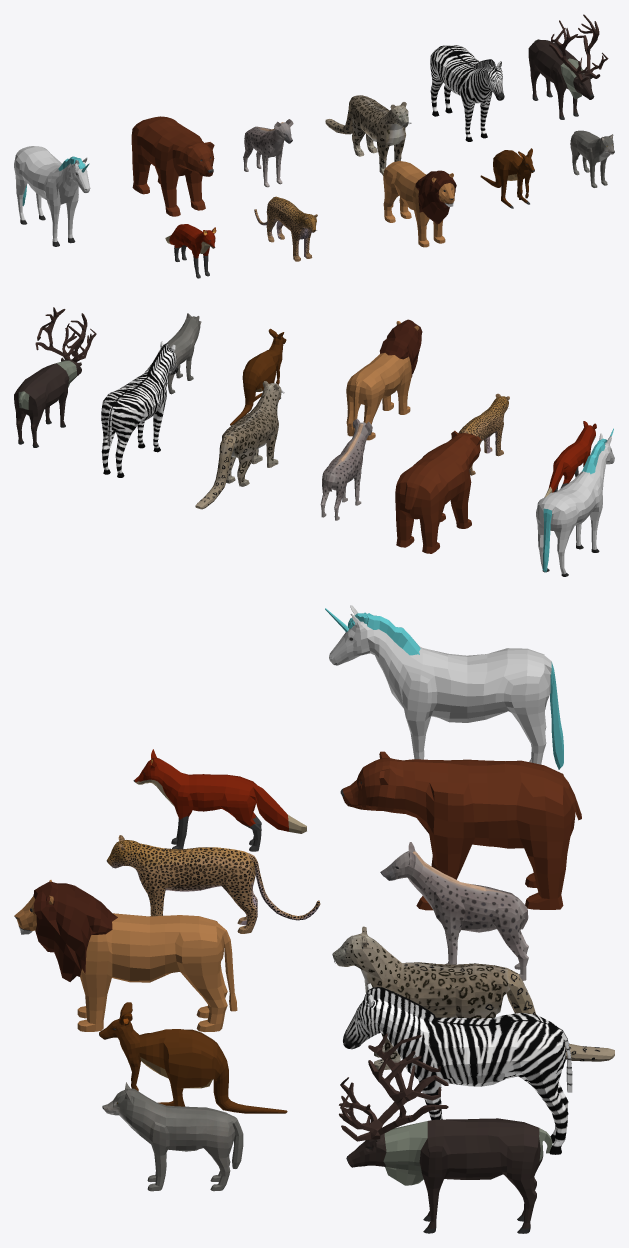
File: 低面野生动物.obj
3 views of the same model, one above another, from view 1: azimuth 30°, elevation 25°; view 2: azimuth 150°, elevation 25°; view 3: azimuth 270°, elevation 25° (orthographic). The views are drawn at different scales.
Parts seen in each view (by area): view 1: Bear_Body_0, 斑马, Unicorn_0, SnowLeopard_0, Lion_LionBody_0, Reindeer_Body_0, 豹子, 鬣狗, 狼, Kangaroo_Body_0, Lion_LionMane_0, Reindeer_Horns_0 (+2 smaller); view 2: Bear_Body_0, 斑马, SnowLeopard_0, Unicorn_0, Lion_LionBody_0, Reindeer_Body_0, 鬣狗, Kangaroo_Body_0, 豹子, Fox_0, Lion_LionMane_0, Reindeer_Horns_0 (+3 smaller); view 3: Bear_Body_0, 斑马, Unicorn_0, Lion_LionBody_0, SnowLeopard_0, Reindeer_Body_0, 豹子, 鬣狗, 狼, Kangaroo_Body_0, Fox_0, Lion_LionMane_0 (+3 smaller).
Part boxes in pixels (bbox=[...]): Bear_Body_0: bbox=[131, 116, 214, 216]; 斑马: bbox=[430, 45, 504, 141]; Unicorn_0: bbox=[14, 146, 90, 241]; SnowLeopard_0: bbox=[325, 95, 408, 175]; Lion_LionBody_0: bbox=[383, 161, 454, 247]; Reindeer_Body_0: bbox=[528, 39, 593, 116]; 豹子: bbox=[254, 196, 317, 261]; 鬣狗: bbox=[243, 119, 293, 187]; 狼: bbox=[570, 130, 614, 187]; Kangaroo_Body_0: bbox=[480, 148, 534, 207]; Lion_LionMane_0: bbox=[415, 170, 456, 224]; Reindeer_Horns_0: bbox=[549, 14, 608, 82]; Bear_Body_0: bbox=[395, 430, 480, 553]; 斑马: bbox=[101, 341, 178, 477]; SnowLeopard_0: bbox=[195, 381, 281, 509]; Unicorn_0: bbox=[536, 433, 614, 574]; Lion_LionBody_0: bbox=[346, 321, 419, 440]; Reindeer_Body_0: bbox=[14, 357, 81, 445]; 鬣狗: bbox=[320, 419, 372, 520]; Kangaroo_Body_0: bbox=[230, 328, 286, 425]; 豹子: bbox=[458, 393, 509, 475]; Fox_0: bbox=[548, 421, 596, 492]; Lion_LionMane_0: bbox=[379, 319, 422, 377]; Reindeer_Horns_0: bbox=[35, 307, 96, 362]; Bear_Body_0: bbox=[342, 751, 581, 910]; 斑马: bbox=[343, 983, 572, 1154]; Unicorn_0: bbox=[329, 605, 551, 764]; Lion_LionBody_0: bbox=[14, 880, 237, 1031]; SnowLeopard_0: bbox=[332, 926, 614, 1069]; Reindeer_Body_0: bbox=[348, 1118, 542, 1228]; 豹子: bbox=[106, 835, 320, 933]; 鬣狗: bbox=[380, 842, 528, 980]; 狼: bbox=[102, 1082, 243, 1191]; Kangaroo_Body_0: bbox=[99, 1002, 287, 1113]; Fox_0: bbox=[134, 749, 288, 831]; Lion_LionMane_0: bbox=[33, 881, 117, 981].
Bounding box in the file's own units: 787 × 140 × 422.
